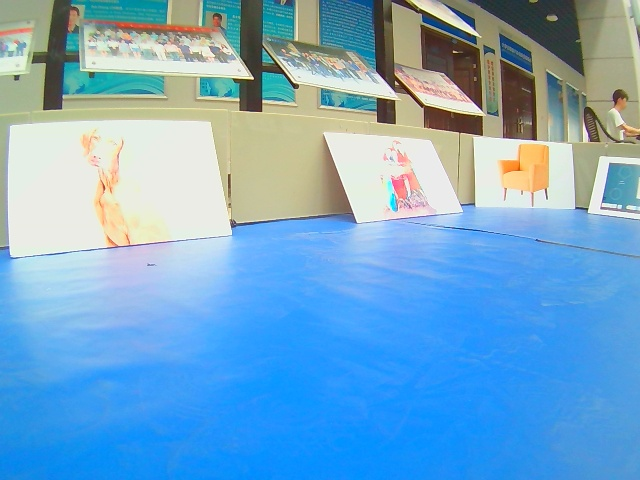pet: (9, 121, 232, 262), (322, 134, 467, 225)
sofa: (473, 138, 574, 213)
